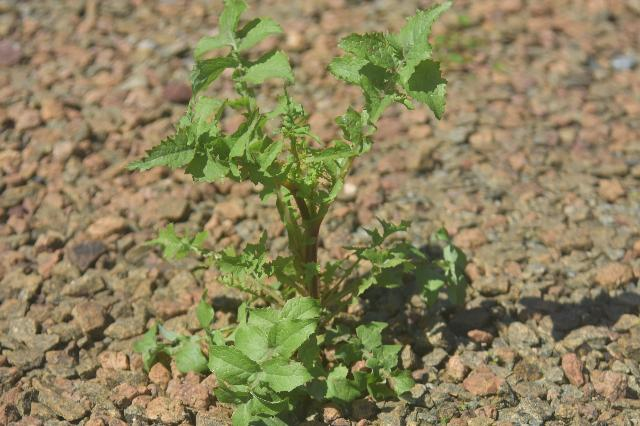MalezaMontesDelPlata: (129, 3, 474, 426)
